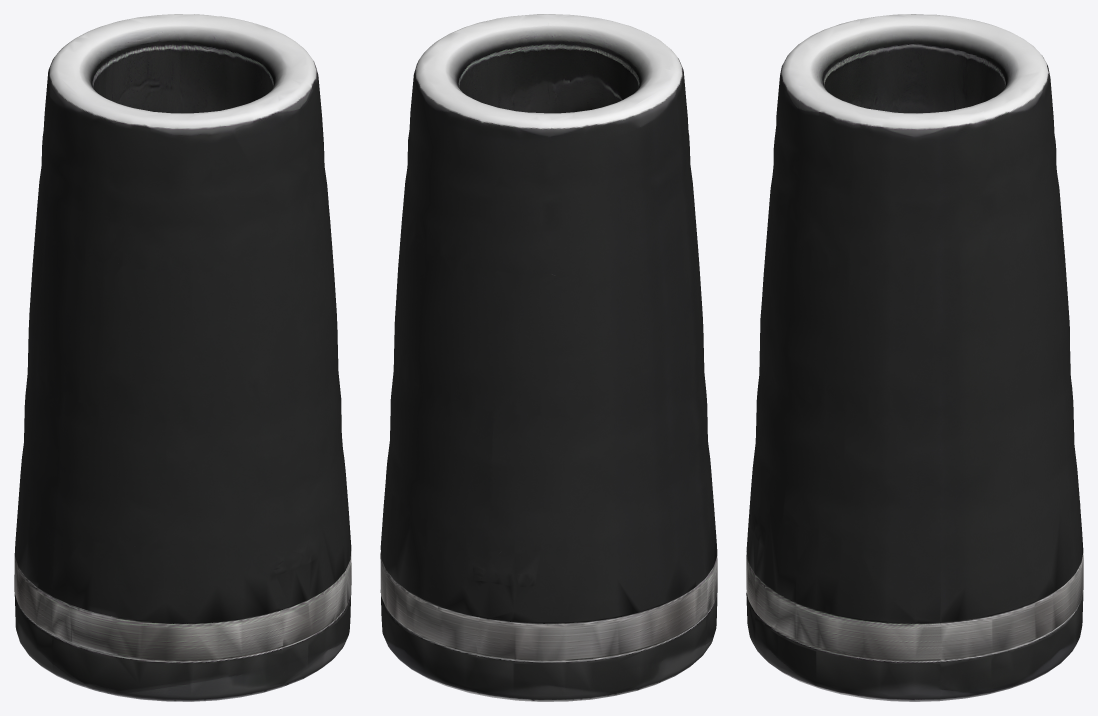
File: mouthpiece.glb
3 renders of one model, left to right at view 1: azimuth 30°, elevation 25°; view 2: azimuth 150°, elevation 25°; view 3: azimuth 270°, elevation 25°, orthographic.
Parts seen in each view (by area): view 1: mesh_node; view 2: mesh_node; view 3: mesh_node.
Part boxes in pixels (<box>): mesh_node: <box>14,14,351,701</box>; mesh_node: <box>380,14,717,701</box>; mesh_node: <box>746,14,1083,701</box>.
Bounding box in the file's own units: 1.02 × 1.9 × 1.02.
1 material, 1 textured.
